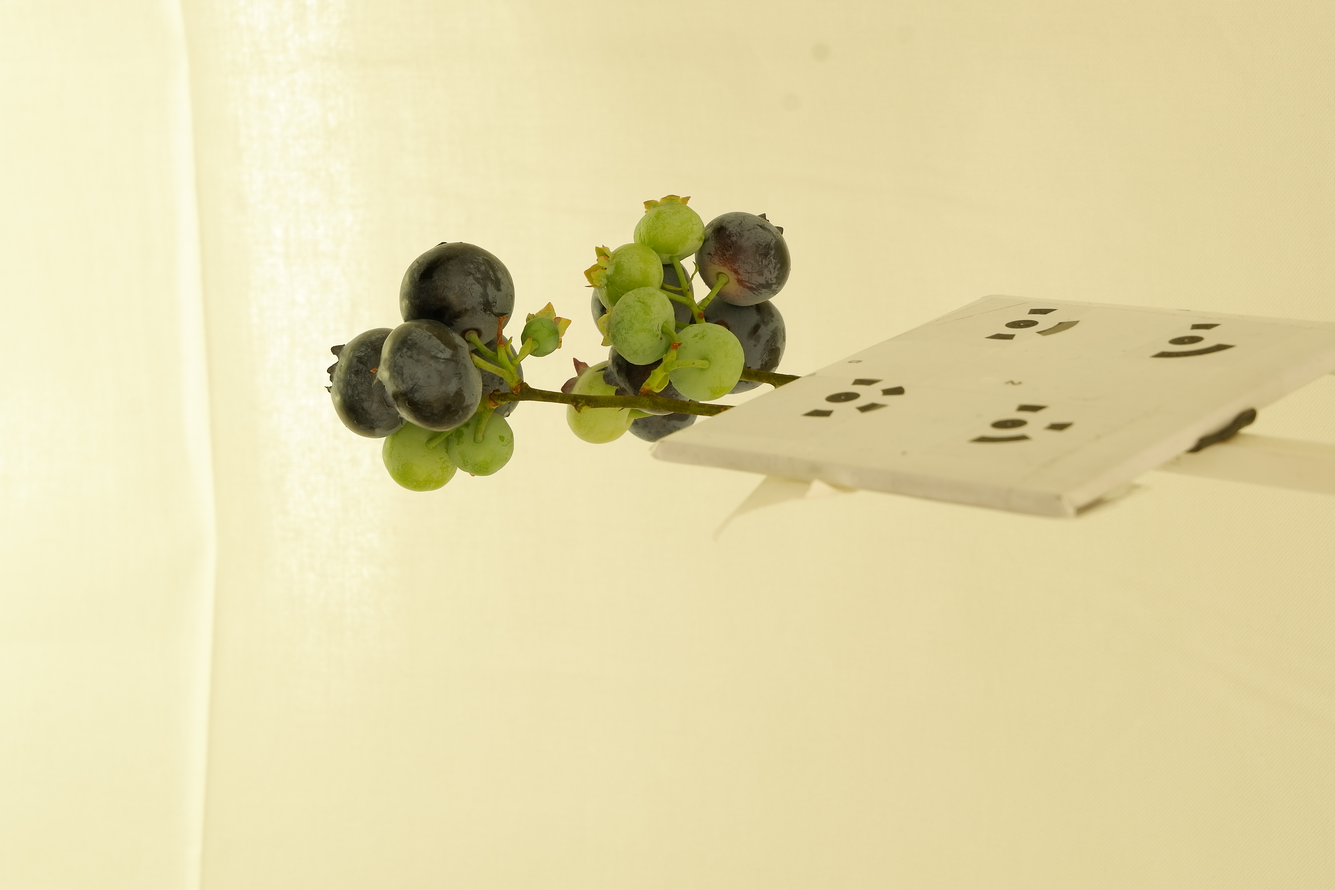Immature: (696, 214, 789, 305), (562, 360, 635, 444), (664, 324, 743, 399), (605, 290, 674, 362), (383, 424, 456, 491), (589, 243, 664, 308), (634, 196, 704, 263), (447, 408, 515, 476), (522, 302, 571, 357)
Mature: (399, 241, 514, 349), (377, 320, 482, 431), (325, 327, 408, 438), (696, 295, 786, 394), (596, 347, 689, 415), (471, 335, 524, 418), (628, 399, 700, 442), (662, 262, 694, 333), (591, 289, 606, 335)
